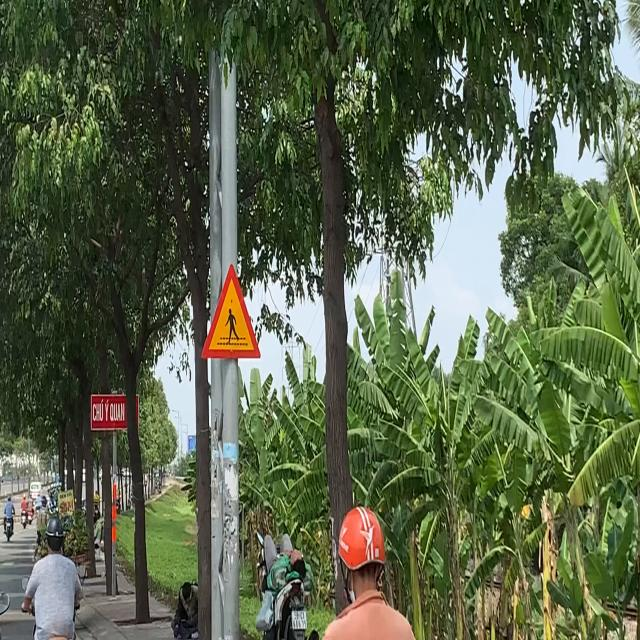Nguoi di bo cat ngang: (196, 262, 262, 365)
